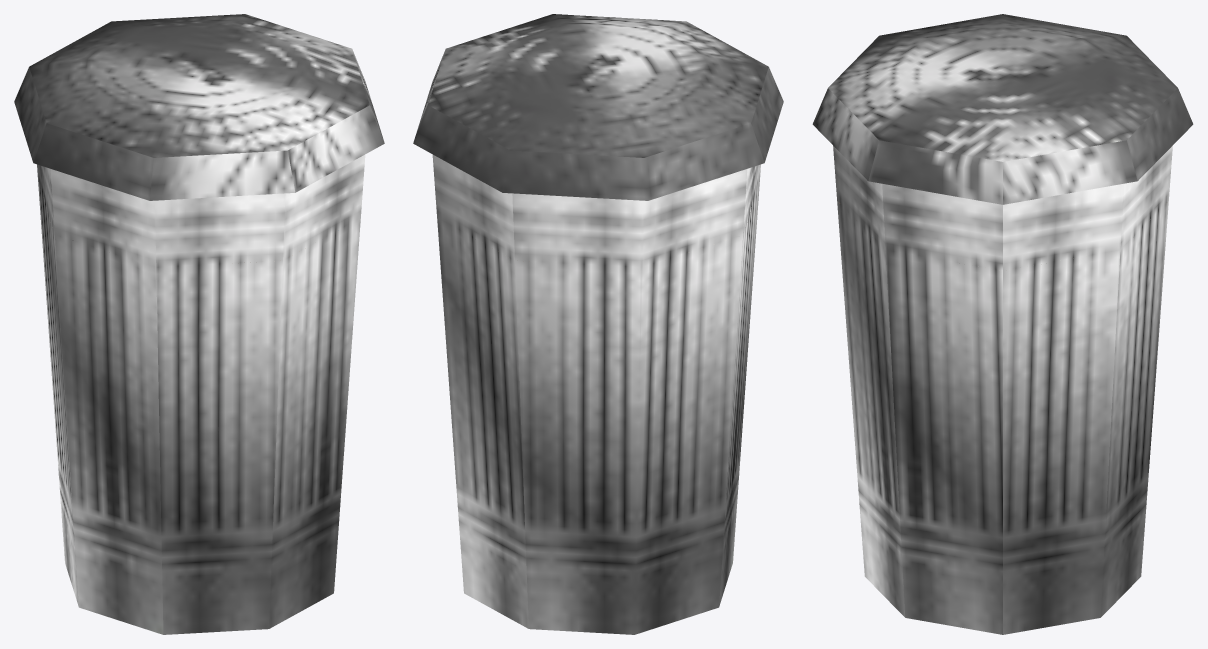
Rendered from psx_industrial_pack_trash_can.glb.
3 views of the same model, side by side, from view 1: azimuth 30°, elevation 25°; view 2: azimuth 150°, elevation 25°; view 3: azimuth 270°, elevation 25° (orthographic).
Visible parts, largest first — view 1: TrashCan; view 2: TrashCan; view 3: TrashCan.
Boxes of the visible parts, x1=… form: TrashCan: x1=14, y1=14, x2=384, y2=634; TrashCan: x1=413, y1=14, x2=783, y2=634; TrashCan: x1=812, y1=14, x2=1193, y2=634.
Bounding box in the file's own units: 0.6615 × 0.9641 × 0.6615.
Materials: 1 (1 with a texture image).
